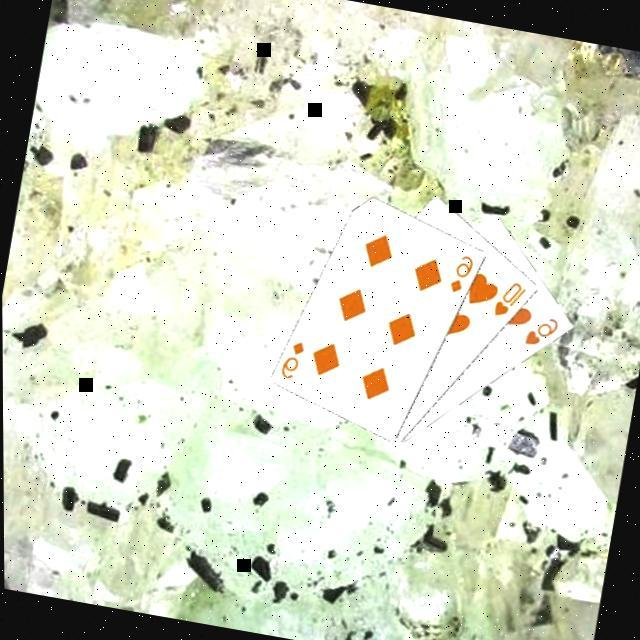10H: (488, 278, 528, 324)
6D: (274, 336, 307, 386), (443, 252, 476, 300)
6H: (518, 312, 560, 354)
